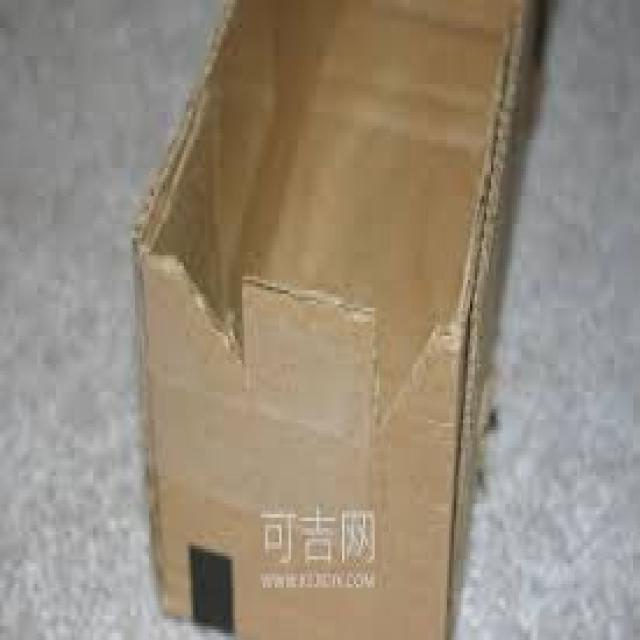Cardboard: (135, 0, 539, 640)
